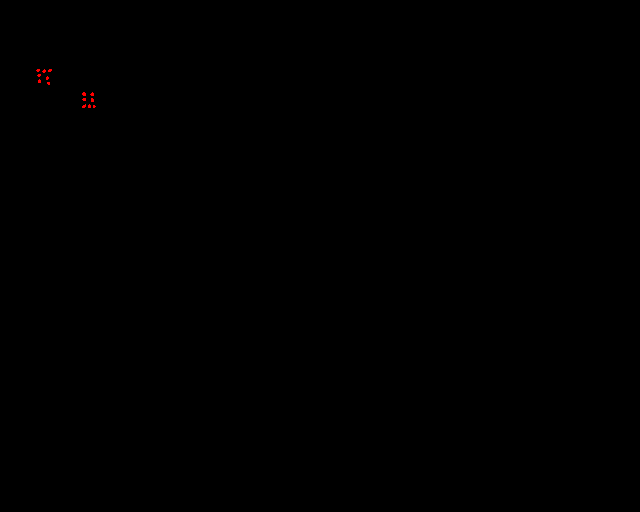Target: (42, 69, 46, 73), (82, 92, 86, 96), (90, 92, 94, 96), (82, 104, 86, 108), (36, 69, 40, 72), (48, 69, 52, 72), (37, 74, 41, 77), (46, 76, 49, 80), (38, 79, 41, 83), (82, 98, 86, 101), (91, 98, 94, 102), (88, 104, 91, 108), (47, 82, 50, 85), (93, 105, 96, 108)
